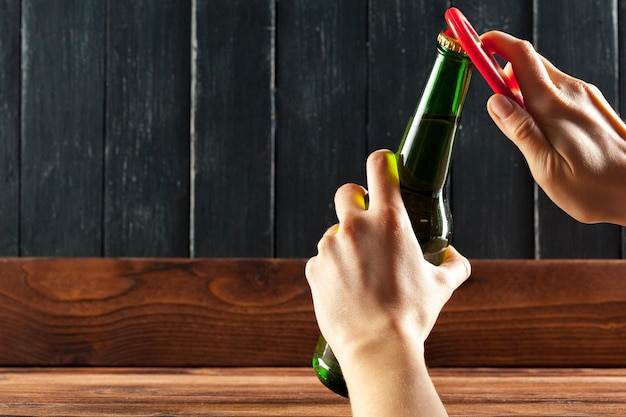alcohol: (311, 30, 485, 402)
